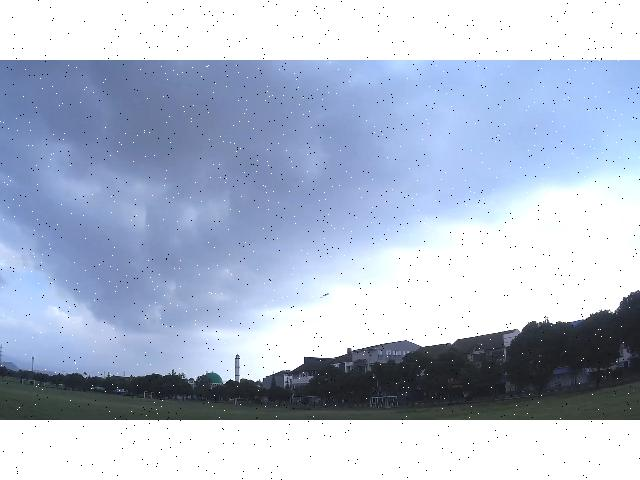Anti-Drone: (304, 283, 338, 303)
